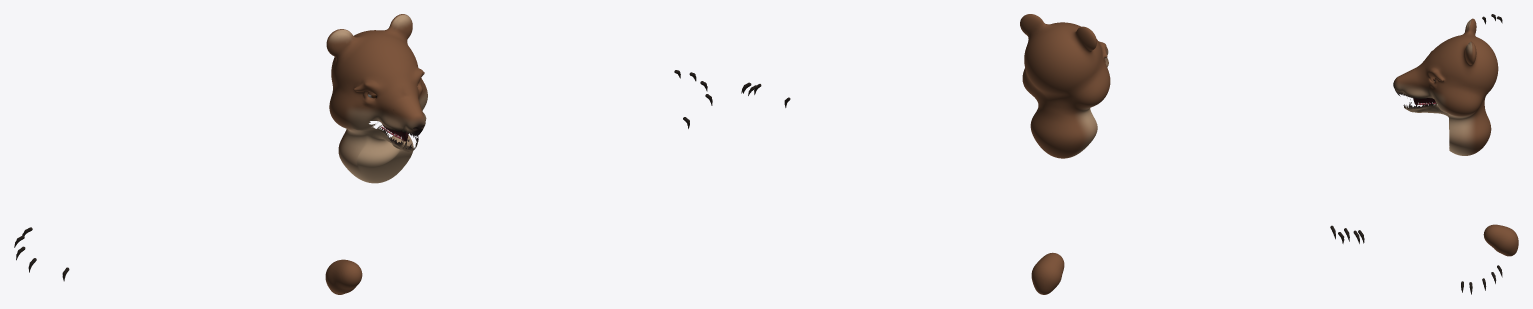
Rendered from male_bear.glb.
3 views of the same model, side by side, from view 1: azimuth 30°, elevation 25°; view 2: azimuth 150°, elevation 25°; view 3: azimuth 270°, elevation 25° (orthographic). The views are drawn at different scales.
Parts seen in each view (by area): view 1: AnimalHead, AnimalTail; view 2: AnimalHead, AnimalTail; view 3: AnimalHead, AnimalTail.
Part boxes in pixels (box(x1,y1,x2,y2)): AnimalHead: box(326, 14, 427, 183); AnimalTail: box(325, 259, 362, 294); AnimalHead: box(1020, 14, 1110, 158); AnimalTail: box(1031, 252, 1064, 294); AnimalHead: box(1393, 18, 1498, 155); AnimalTail: box(1483, 224, 1518, 256).
Size of the model in its own units: 1.94 by 0.7704 by 0.3853.
